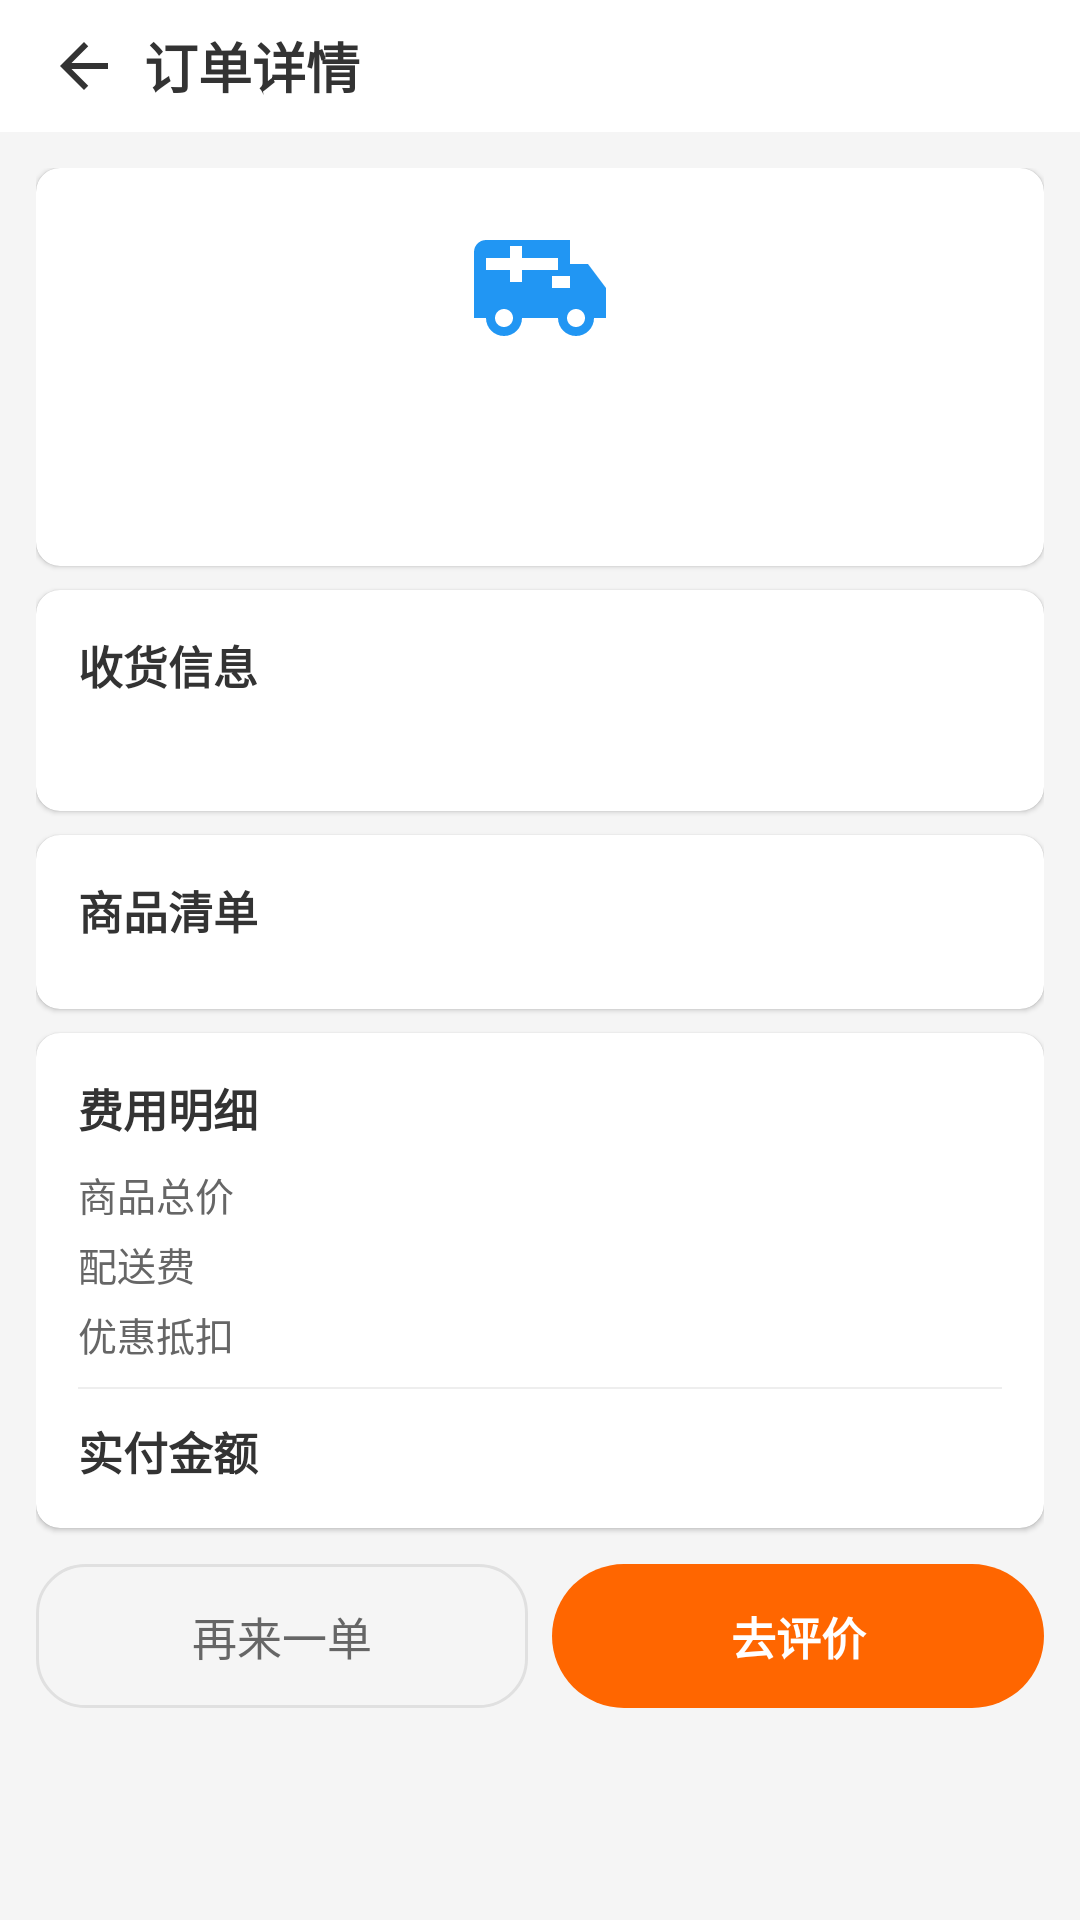

Screen size 1080 x 1920. Icon name, then its center in pixels as point (x, y):
arrow back: point (84, 66)
profile delivery: point (540, 288)
